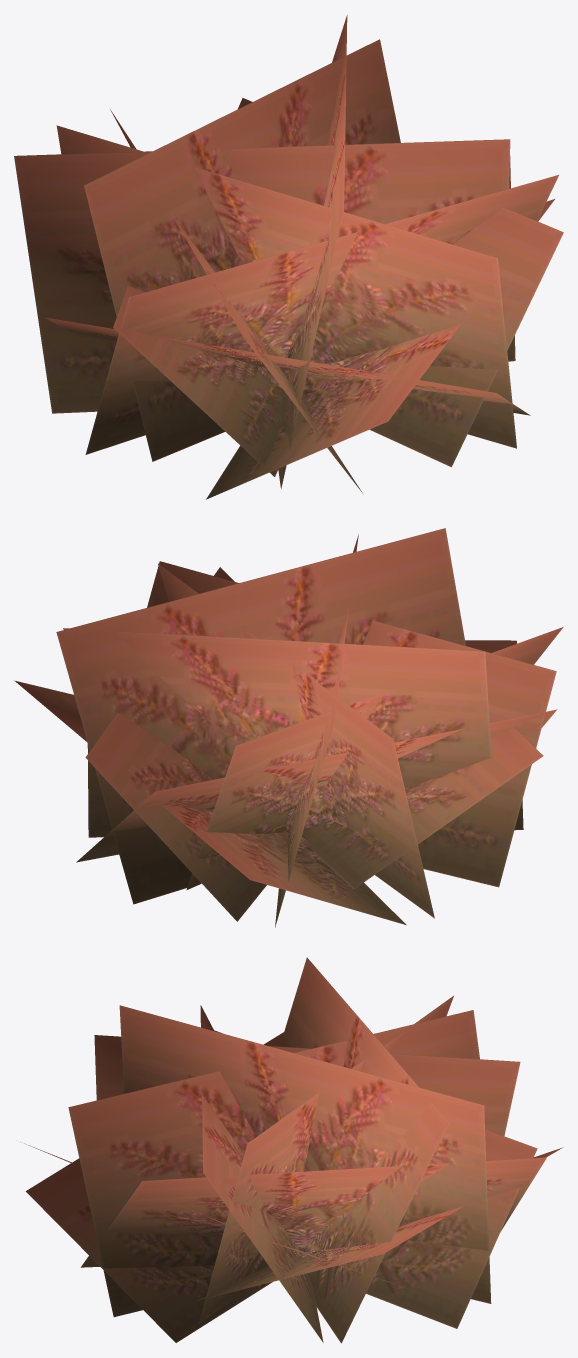
File: shrb_dath_redweed_l0.fbx
The picture shows the model from 3 angles, top to bottom: view 1: azimuth 30°, elevation 25°; view 2: azimuth 150°, elevation 25°; view 3: azimuth 270°, elevation 25°; orthographic projection. The views are drawn at different scales.
Parts seen in each view (by area): view 1: mesh_node; view 2: mesh_node; view 3: mesh_node.
Part boxes in pixels (x1,y1,x2,y2): mesh_node: (14, 15, 563, 499); mesh_node: (14, 528, 563, 927); mesh_node: (24, 957, 563, 1343).
Size of the model in its own units: 2.23 by 1.18 by 2.36.
Materials: 1 (1 with a texture image).
